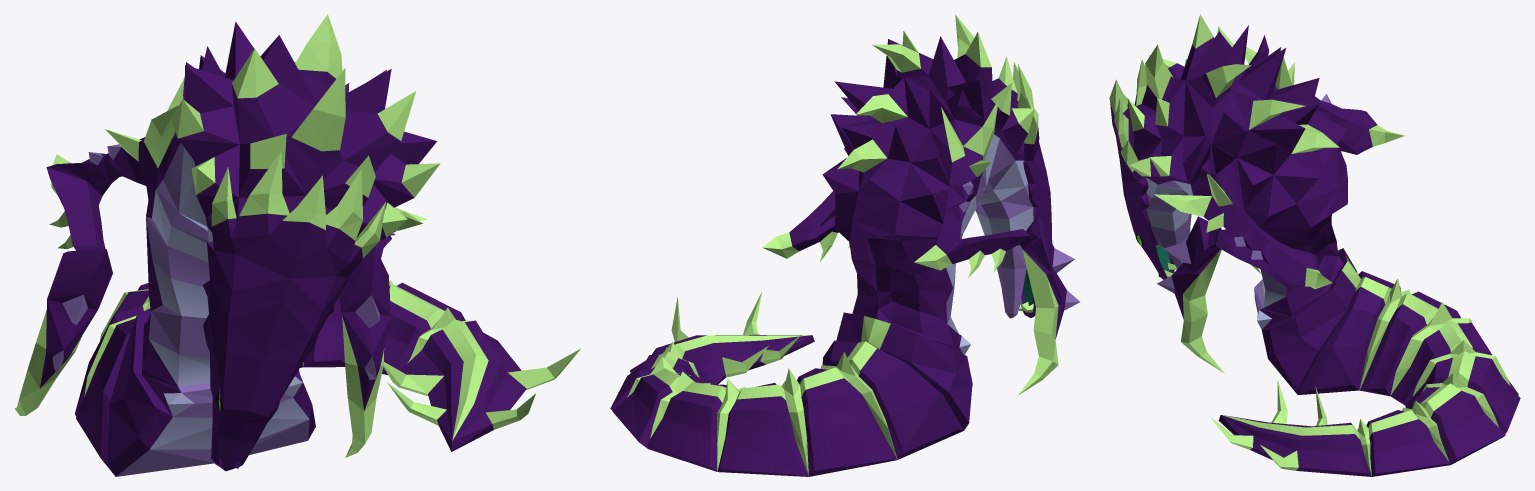
The model's file is Attack (5).obj.
The picture shows the model from 3 angles, left to right: view 1: azimuth 30°, elevation 25°; view 2: azimuth 150°, elevation 25°; view 3: azimuth 270°, elevation 25°; orthographic projection. The views are drawn at different scales.
Visible parts, largest first — view 1: Alien_Serpent; view 2: Alien_Serpent; view 3: Alien_Serpent.
Boxes of the visible parts, <box> form: Alien_Serpent: <box>15,14,580,476</box>; Alien_Serpent: <box>610,14,1079,476</box>; Alien_Serpent: <box>1109,14,1520,476</box>.
Size of the model in its own units: 244 by 207 by 226.
Materials: 1 (1 with a texture image).
